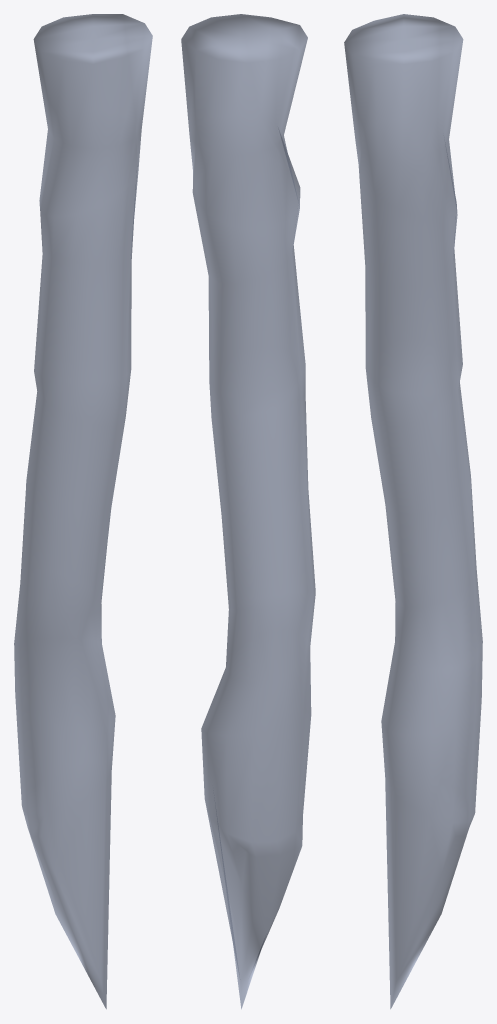
File: MeltyIcicle.fbx
3 renders of one model, left to right at view 1: azimuth 90°, elevation 25°; view 2: azimuth 210°, elevation 25°; view 3: azimuth 270°, elevation 25°, orthographic.
Visible parts, largest first — view 1: MeltyIcicle; view 2: MeltyIcicle; view 3: MeltyIcicle.
Boxes of the visible parts, box(x1,y1,x2,y2) form: MeltyIcicle: box(14, 14, 152, 1009); MeltyIcicle: box(181, 14, 315, 1009); MeltyIcicle: box(344, 14, 482, 1009).
Size of the model in its own units: 3.91 by 34.28 by 4.44.
